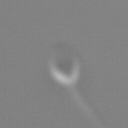normal: (68, 85, 108, 128)
